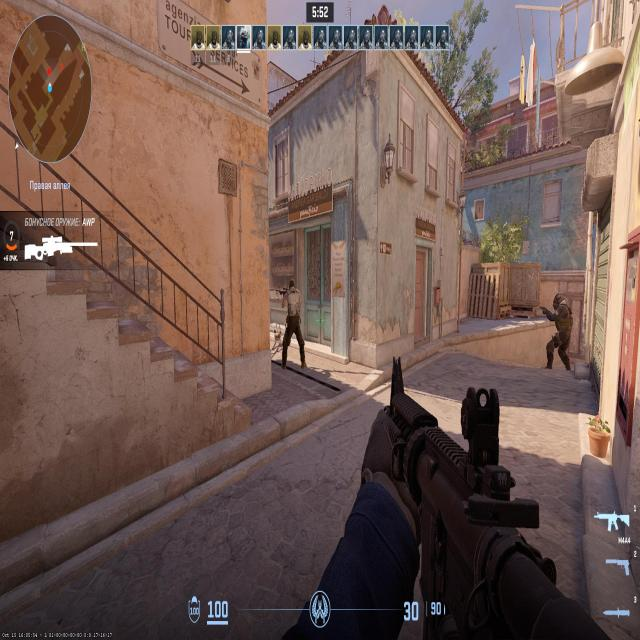CT: (550, 299, 566, 375)
CT_heat: (554, 297, 562, 311)
T: (288, 284, 302, 368)
T_heat: (289, 282, 296, 290)
